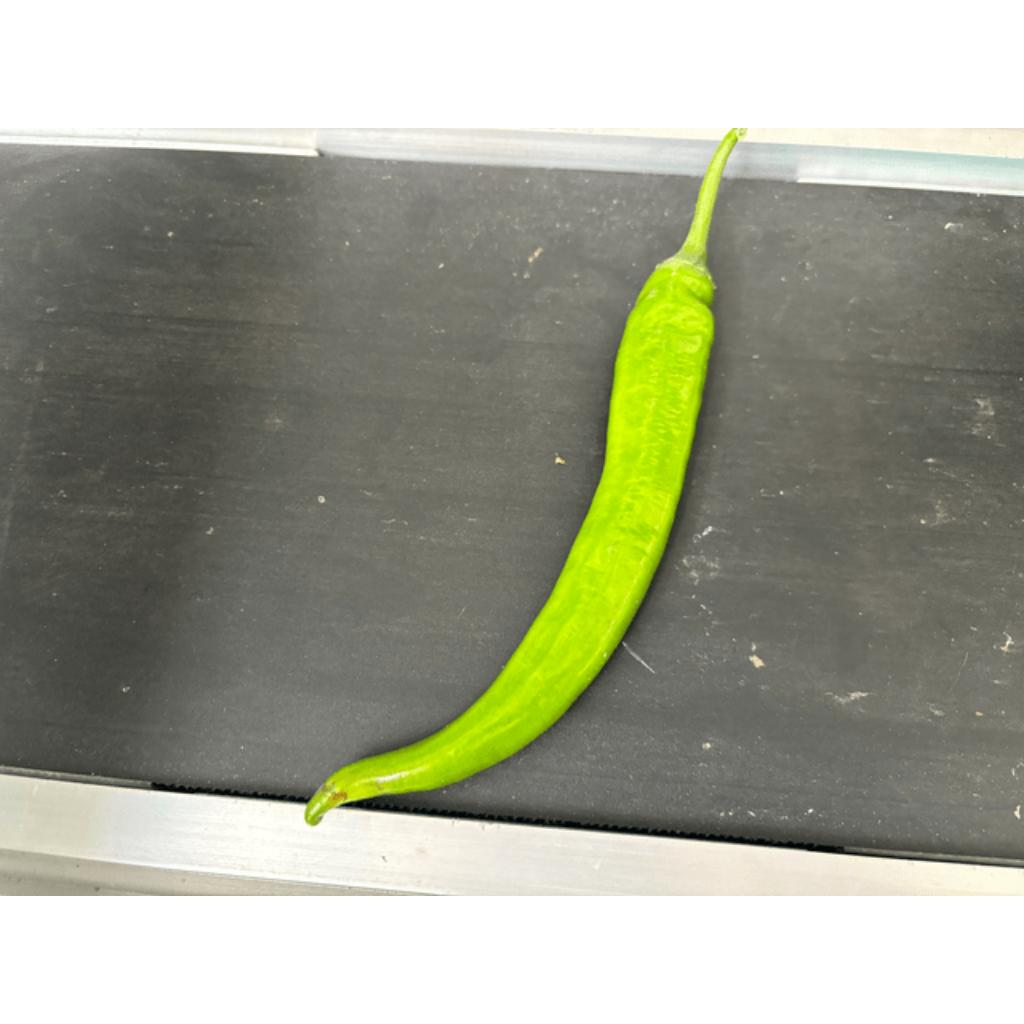chili: (300, 254, 721, 826)
